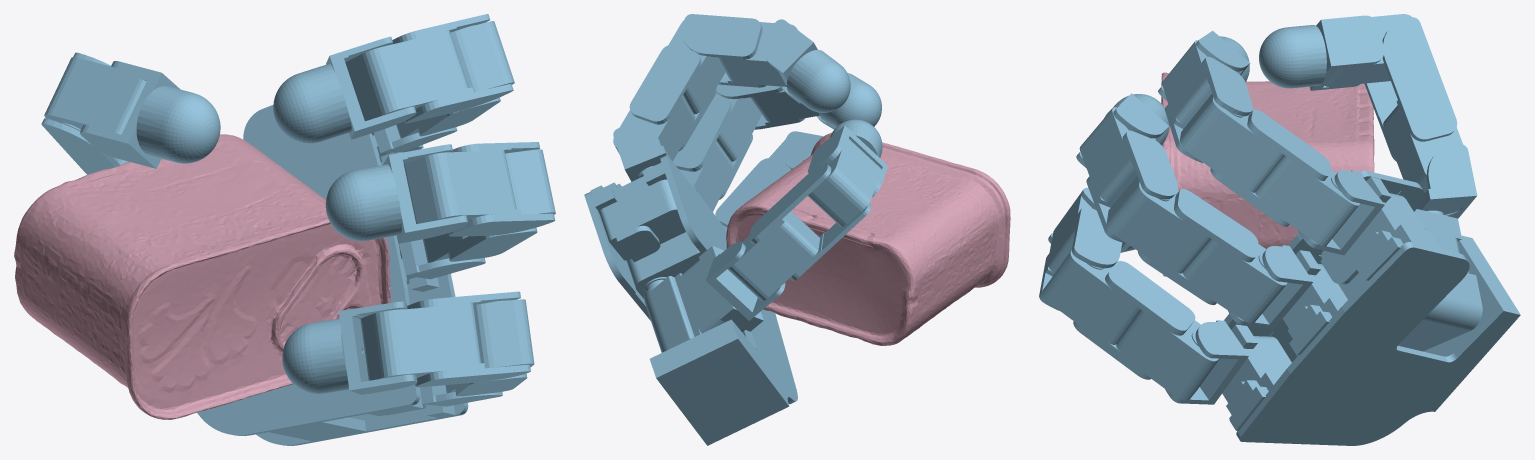
The picture shows the model from 3 angles, left to right: view 1: azimuth 30°, elevation 25°; view 2: azimuth 150°, elevation 25°; view 3: azimuth 270°, elevation 25°; orthographic projection. The views are drawn at different scales.
Visible parts, largest first — view 1: world; view 2: world; view 3: world.
Boxes of the visible parts, x1,y1,x2,y2 form: world: (14, 14, 555, 445); world: (584, 14, 1010, 445); world: (1039, 14, 1520, 445).
Bounding box in the file's own units: 0.1622 × 0.1758 × 0.1884.
